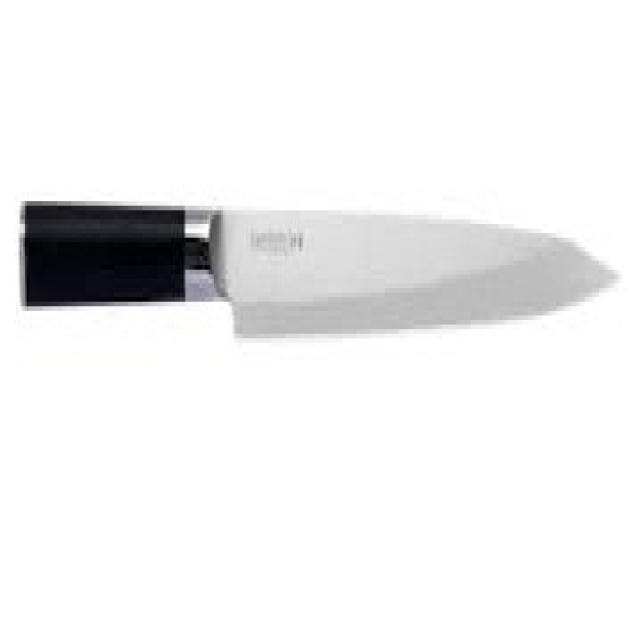knife: (17, 185, 620, 359)
